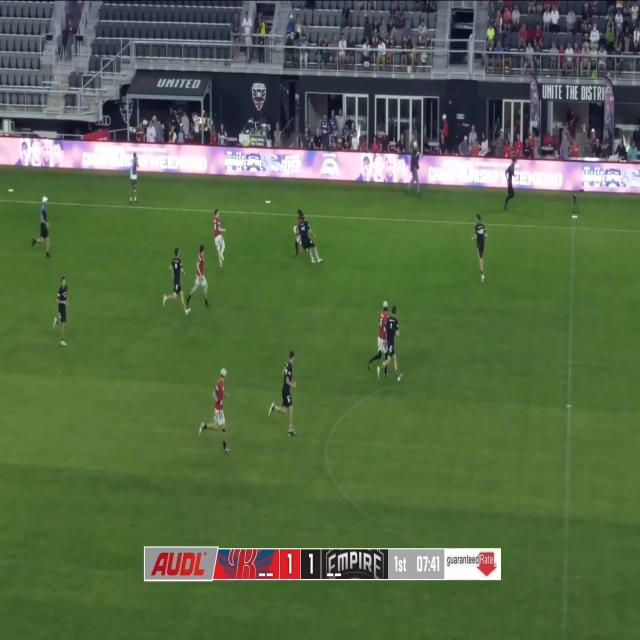Disc: (294, 226, 298, 234), (8, 189, 14, 192), (572, 215, 577, 218), (266, 201, 270, 203)
Player: (199, 368, 231, 454), (268, 351, 297, 436), (163, 248, 191, 316), (378, 305, 403, 381), (368, 301, 388, 376), (187, 245, 210, 310), (32, 196, 52, 258), (299, 213, 323, 264), (472, 215, 488, 281), (54, 276, 68, 348), (213, 208, 226, 268), (503, 158, 517, 212), (295, 210, 308, 258)
